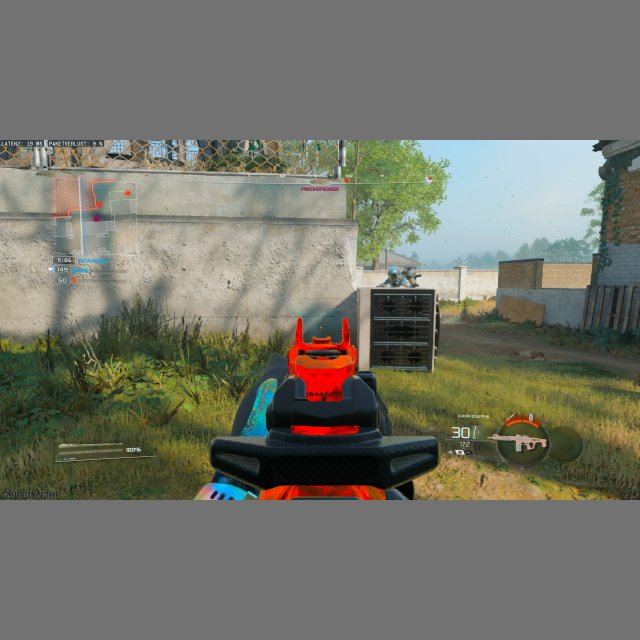player: (396, 266, 420, 288)
